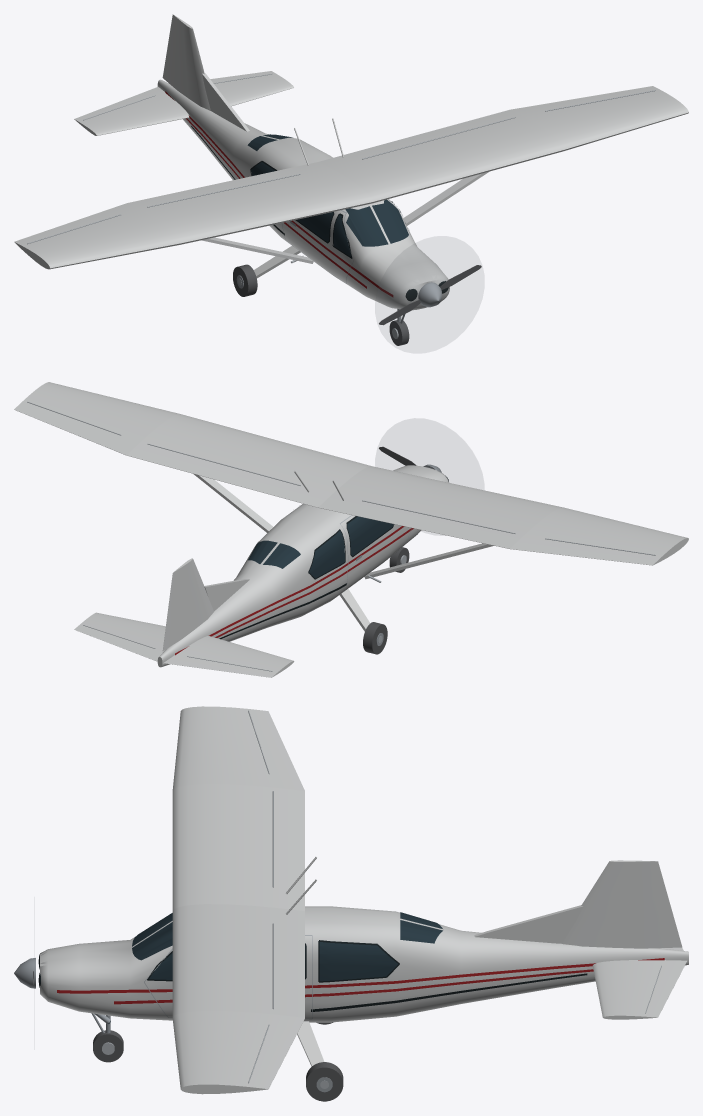
The model's file is aircraft-light.glb.
3 renders of one model, top to bottom at view 1: azimuth 30°, elevation 25°; view 2: azimuth 150°, elevation 25°; view 3: azimuth 270°, elevation 25°, orthographic. The views are drawn at different scales.
Parts seen in each view (by area): view 1: aircraft-light; view 2: aircraft-light; view 3: aircraft-light.
Part boxes in pixels (x1,y1,x2,y2): aircraft-light: (14,14,688,352); aircraft-light: (14,382,688,677); aircraft-light: (14,706,688,1101).
Size of the model in its own units: 11 by 2.7 by 8.3.
